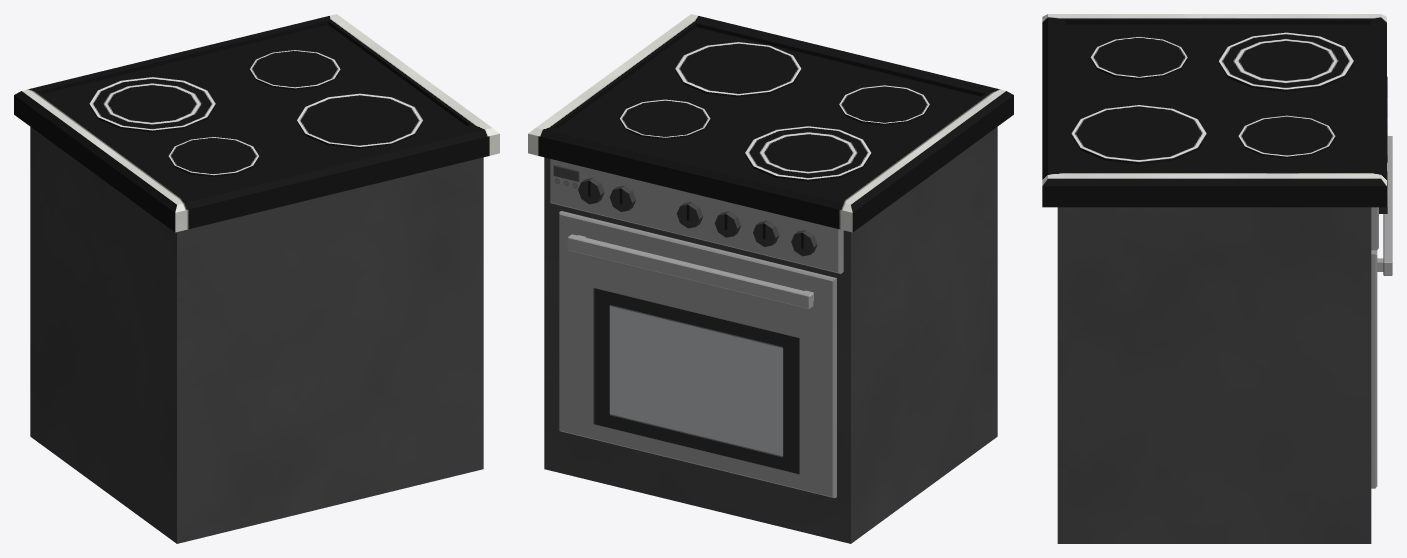
The model's file is KitchenStove.fbx.
The picture shows the model from 3 angles, left to right: view 1: azimuth 30°, elevation 25°; view 2: azimuth 150°, elevation 25°; view 3: azimuth 270°, elevation 25°; orthographic projection. The views are drawn at different scales.
Visible parts, largest first — view 1: Oven_Stove; view 2: Oven_Stove; view 3: Oven_Stove.
Boxes of the visible parts, box(x1,y1,x2,y2) form: Oven_Stove: box(14, 14, 499, 543); Oven_Stove: box(528, 14, 1013, 543); Oven_Stove: box(1042, 14, 1392, 543).
Size of the model in its own units: 101 by 102 by 88.
Materials: 1 (1 with a texture image).
